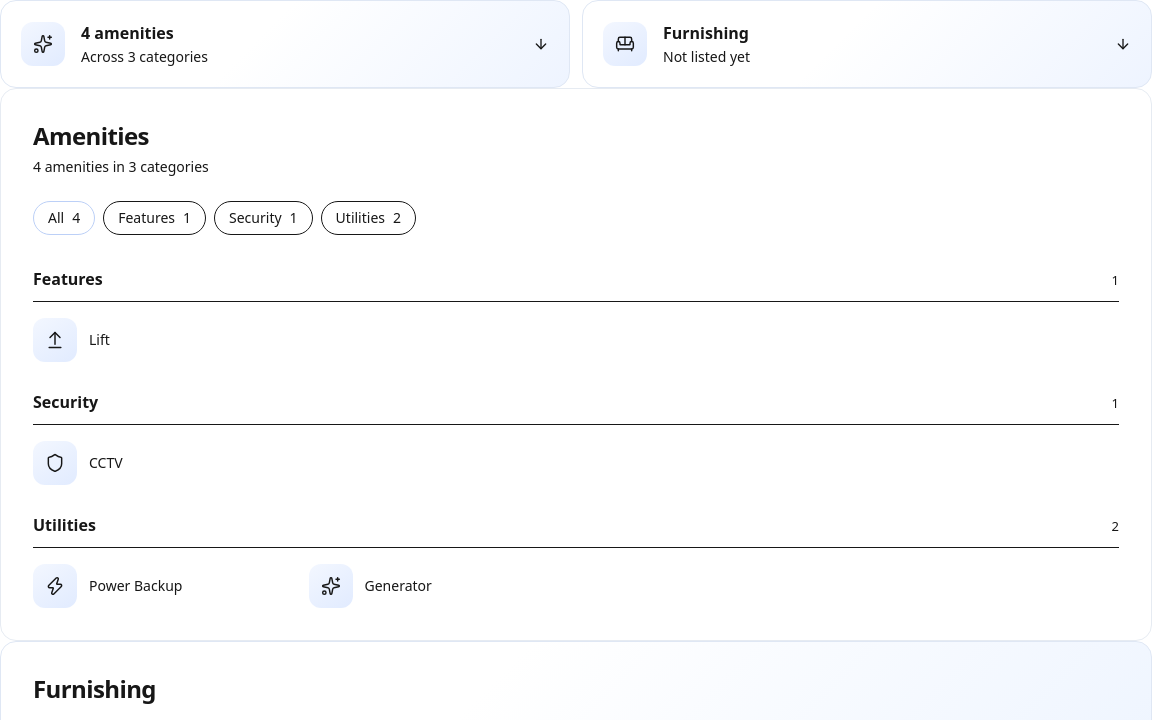
Scenario: ProjectAmenitiesSection › filters amenities by category and by search
Click the button "Security 1" at [263, 218], box [214,201,313,235]
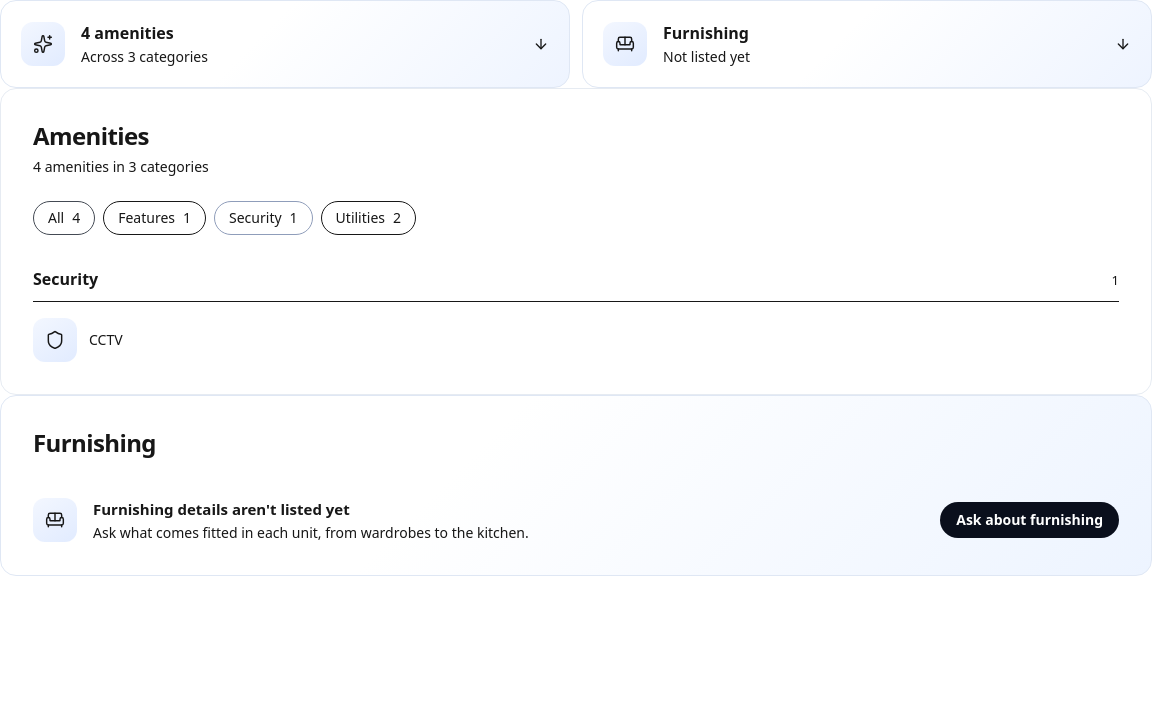
Expected: the text "CCTV" is shown, [89,330,123,350]
Now the text "Lift" is gone
